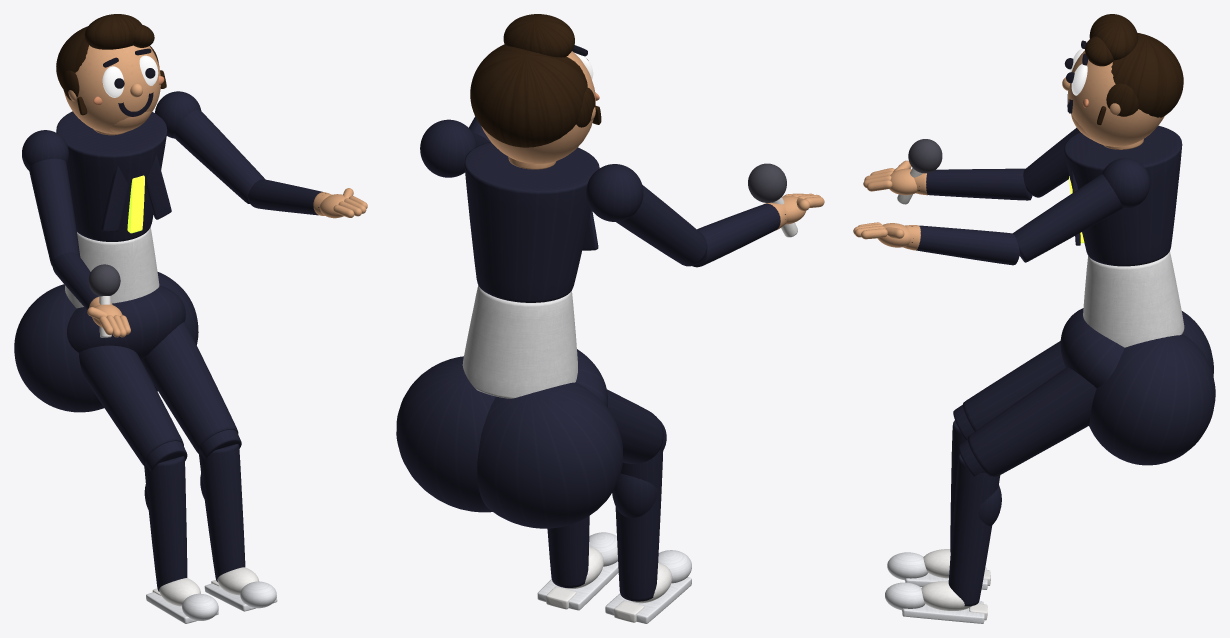
The model's file is character-host.glb.
The picture shows the model from 3 angles, left to right: view 1: azimuth 30°, elevation 25°; view 2: azimuth 150°, elevation 25°; view 3: azimuth 270°, elevation 25°; orthographic projection. The views are drawn at different scales.
Visible parts, largest first — view 1: spine, head, thighR, kneeL, kneeR, cheekR, thighL, pelvis, shoulderL, shoulderR, elbowR, elbowL (+1 smaller); view 2: spine, cheekR, head, cheekL, kneeR, kneeL, elbowR, shoulderR, thighR, pelvis; view 3: spine, cheekL, head, kneeL, thighL, elbowR, elbowL, shoulderL, thighR, pelvis, kneeR, shoulderR (+1 smaller).
Boxes of the visible parts, x1,y1,x2,y2 form: spine: [22, 91, 201, 308]; head: [56, 14, 166, 133]; thighR: [79, 345, 187, 471]; kneeL: [199, 444, 277, 611]; kneeR: [144, 456, 218, 623]; cheekR: [14, 284, 103, 412]; thighL: [141, 321, 241, 459]; pelvis: [67, 285, 185, 360]; shoulderL: [173, 110, 265, 203]; shoulderR: [29, 158, 80, 266]; elbowR: [52, 252, 130, 337]; elbowL: [248, 179, 367, 218]; spine: [420, 119, 643, 398]; cheekR: [477, 382, 622, 528]; head: [470, 14, 601, 163]; cheekL: [396, 356, 495, 512]; kneeR: [605, 450, 691, 623]; kneeL: [537, 516, 618, 610]; elbowR: [692, 163, 824, 267]; shoulderR: [616, 185, 707, 266]; thighR: [607, 389, 666, 463]; pelvis: [576, 349, 607, 407]; spine: [1064, 125, 1184, 347]; cheekL: [1089, 334, 1215, 465]; head: [1062, 14, 1183, 146]; kneeL: [885, 454, 1001, 623]; thighL: [958, 367, 1096, 476]; elbowR: [863, 139, 1032, 204]; elbowL: [853, 222, 1019, 265]; shoulderL: [1013, 174, 1122, 262]; thighR: [953, 341, 1065, 439]; pelvis: [1060, 308, 1124, 387]; kneeR: [887, 420, 990, 589]; shoulderR: [1023, 127, 1079, 197].
Size of the model in its own units: 2.02 by 3.97 by 2.28.
Materials: 12 (10 with a texture image).
